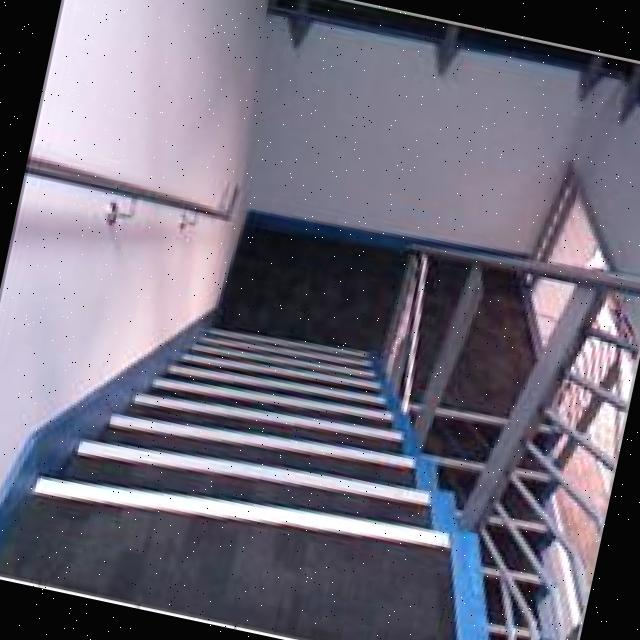stairs: (0, 247, 586, 640)
